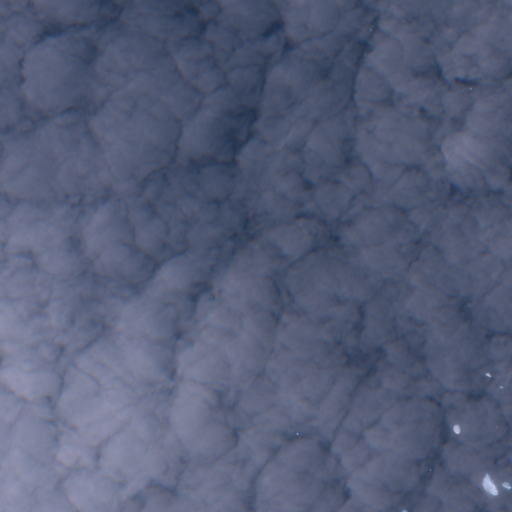Iceberg: (482, 474, 498, 495), (453, 425, 460, 434), (501, 482, 510, 489), (485, 373, 491, 377), (402, 509, 407, 511), (499, 386, 503, 388), (370, 29, 371, 31), (470, 87, 471, 89), (296, 433, 298, 434), (429, 469, 431, 470)
